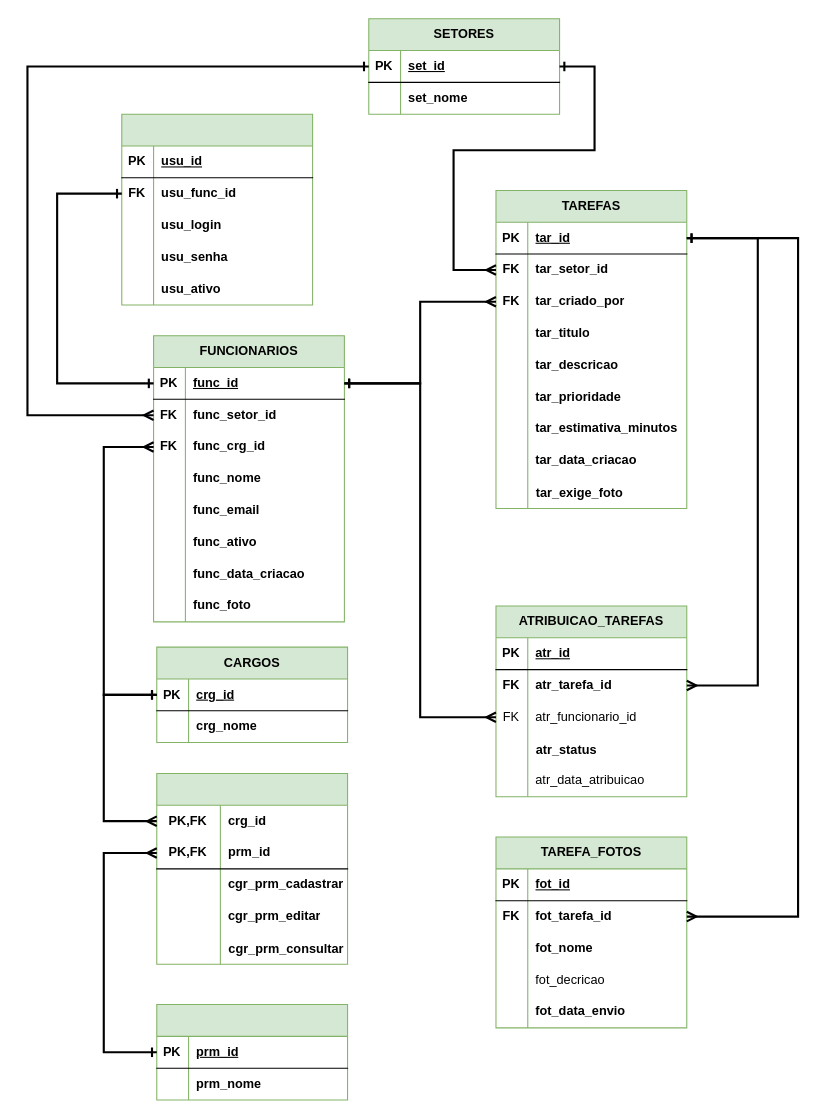
Some shapes in this 827 by 1118 pixel diagram are drawn without their labels. Here are the shapes that lost their labels. From the top down, the box of each, then its label:
(121, 113, 313, 305): USUARIOS
(156, 772, 348, 964): CARGO_PERMISSOES
(156, 1004, 348, 1100): PERMISSOES
